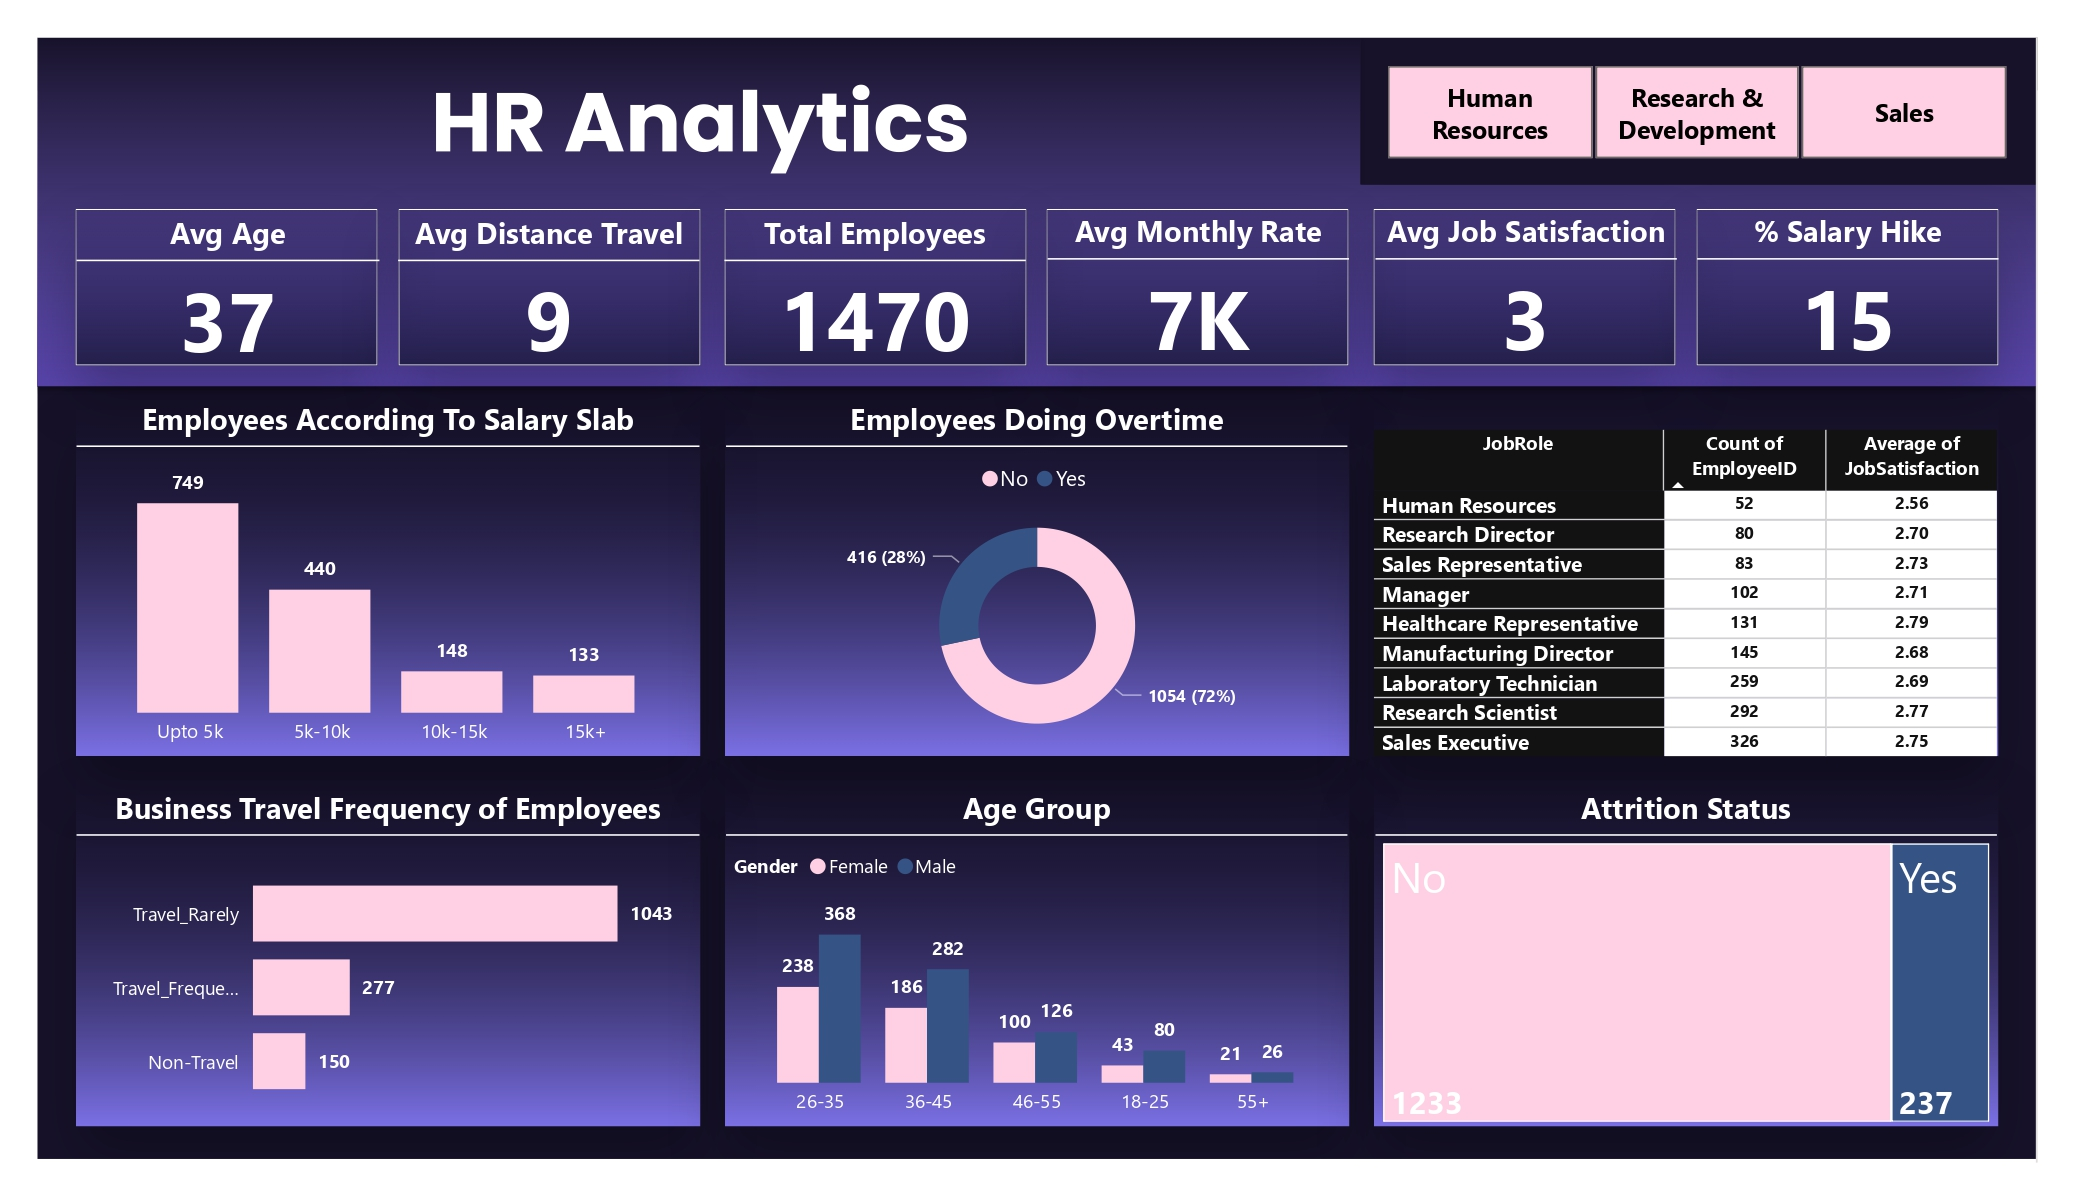

The dashboard page shown, as its layout file describes it:
{"tool":"powerbi","page":{"name":"Dashboard","canvas":[1280,720],"ordinal":0},"visuals":[{"type":"pivotTable","fields":{"Rows":["HR_Analytics.JobRole"],"Values":["CountNonNull(HR_Analytics.EmployeeID)","Avg(HR_Analytics.JobSatisfaction)"]},"box":[856.4,231.4,399.3,230],"z":0},{"type":"slicer","title":"Department","fields":{"Values":["HR_Analytics.Department"]},"box":[844.3,11.4,435.7,72.9],"z":2000},{"type":"clusteredBarChart","title":"Business Travel Frequency of Employees","fields":{"Category":["HR_Analytics.BusinessTravelFrequency"],"Y":["CountNonNull(HR_Analytics.EmployeeID)"]},"box":[25,480,399.2,218.3],"z":3000},{"type":"card","title":"Avg Age","fields":{"Values":["Avg(HR_Analytics.Age)"]},"box":[24.8,112,193.8,100.5],"z":4000},{"type":"card","title":"Total Employees","fields":{"Values":["CountNonNull(HR_Analytics.EmployeeID)"]},"box":[440.5,112.4,192.9,100],"z":5000},{"type":"card","title":"Avg Monthly Rate","fields":{"Values":["Avg(HR_Analytics.MonthlyIncome)"]},"box":[646.7,111.4,192.9,100],"z":6000},{"type":"card","title":"Avg Distance Travel","fields":{"Values":["Avg(HR_Analytics.DistanceFromHome)"]},"box":[231.4,111.9,192.9,100],"z":7000},{"type":"card","title":"Avg Job Satisfaction","fields":{"Values":["Avg(HR_Analytics.JobSatisfaction)"]},"box":[856.7,111.4,192.9,100],"z":8000},{"type":"card","title":"% Salary Hike","fields":{"Values":["Avg(HR_Analytics.PercentSalaryHike)"]},"box":[1062.9,111.4,192.9,100],"z":9000},{"type":"clusteredColumnChart","title":"Employees According To Salary Slab","fields":{"Category":["HR_Analytics.SalarySlab"],"Y":["CountNonNull(HR_Analytics.EmployeeID)"]},"box":[25,231.4,399.3,230],"z":10000},{"type":"donutChart","title":"Employees Doing Overtime","fields":{"Category":["HR_Analytics.OverTime"],"Y":["CountNonNull(HR_Analytics.EmployeeID)"]},"box":[440.7,231.4,398.6,230],"z":11000},{"type":"clusteredColumnChart","title":"Age Group","fields":{"Category":["HR_Analytics.AgeGroup"],"Y":["CountNonNull(HR_Analytics.Age)"],"Series":["HR_Analytics.Gender"]},"box":[440.8,480,398.3,218.3],"z":12000},{"type":"treemap","title":"Attrition Status","fields":{"Group":["HR_Analytics.AttritionStatus"],"Values":["CountNonNull(HR_Analytics.EmployeeID)"]},"box":[856.7,480,398.3,218.3],"z":13000}]}

Visuals, with their boxes on the page's 1280x720 design canvas (x1, y1, x2, y2). These are canvas units, not pixel positions in the 2075x1200 screenshot, which may show the page scaled, cropped or inside an application window:
pivotTable - HR_Analytics.JobRole x CountNonNull(HR_Analytics.EmployeeID): [856,231,1256,461]
"Department" slicer: [844,11,1280,84]
"Business Travel Frequency of Employees" clusteredBarChart: [25,480,424,698]
"Avg Age" card: [25,112,219,212]
"Total Employees" card: [440,112,633,212]
"Avg Monthly Rate" card: [647,111,840,211]
"Avg Distance Travel" card: [231,112,424,212]
"Avg Job Satisfaction" card: [857,111,1050,211]
"% Salary Hike" card: [1063,111,1256,211]
"Employees According To Salary Slab" clusteredColumnChart: [25,231,424,461]
"Employees Doing Overtime" donutChart: [441,231,839,461]
"Age Group" clusteredColumnChart: [441,480,839,698]
"Attrition Status" treemap: [857,480,1255,698]
